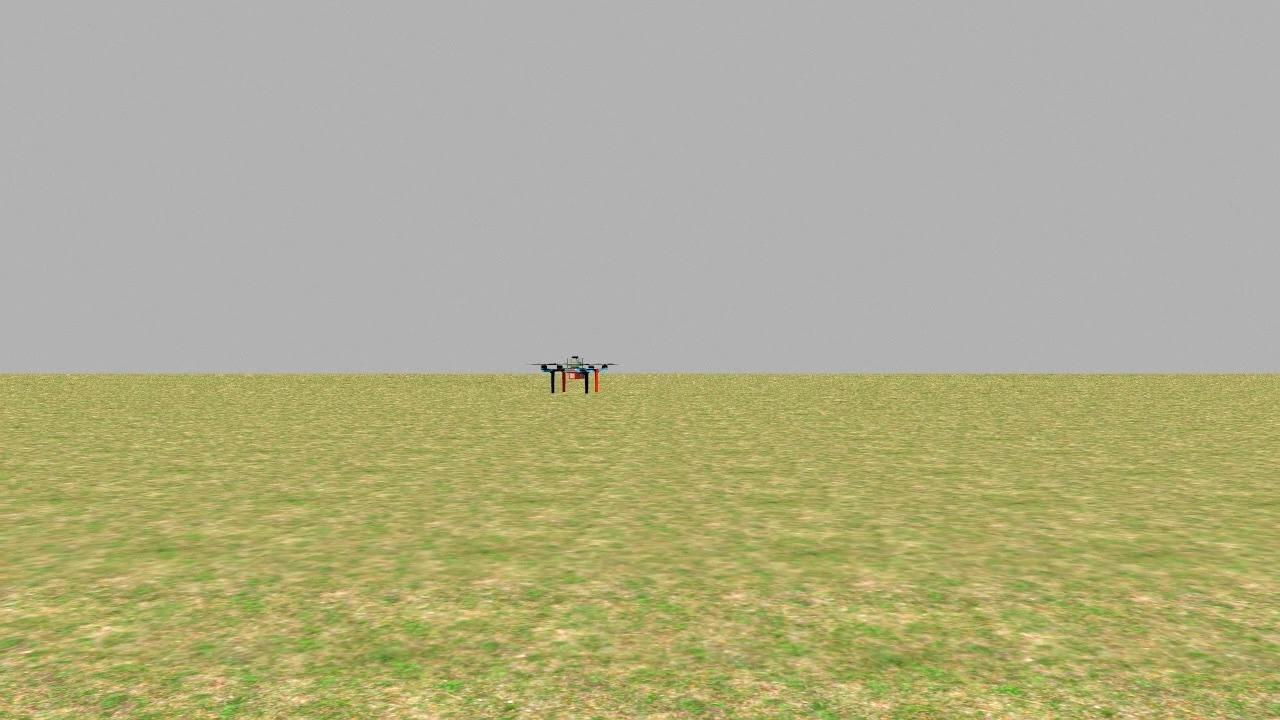UAV: (531, 334, 617, 404)
